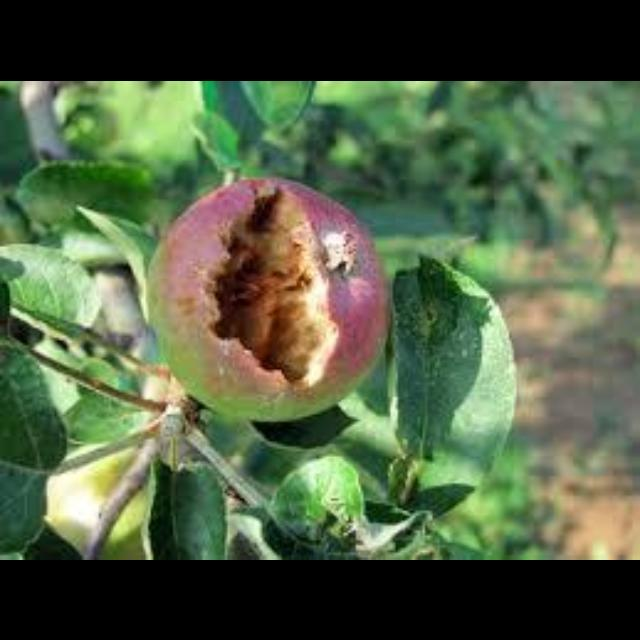apple: (148, 176, 388, 419)
